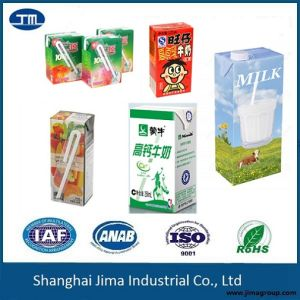carton: (212, 34, 289, 195), (119, 94, 208, 221), (38, 101, 103, 212), (144, 16, 197, 99), (41, 22, 85, 84), (93, 23, 139, 79), (82, 30, 124, 89)
